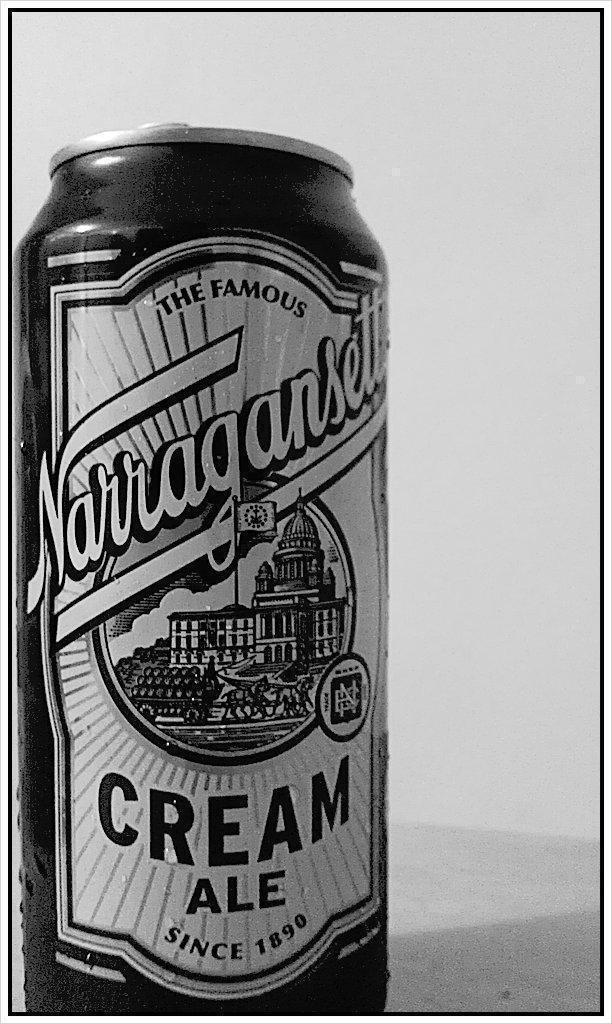tin can: (16, 122, 391, 1012)
